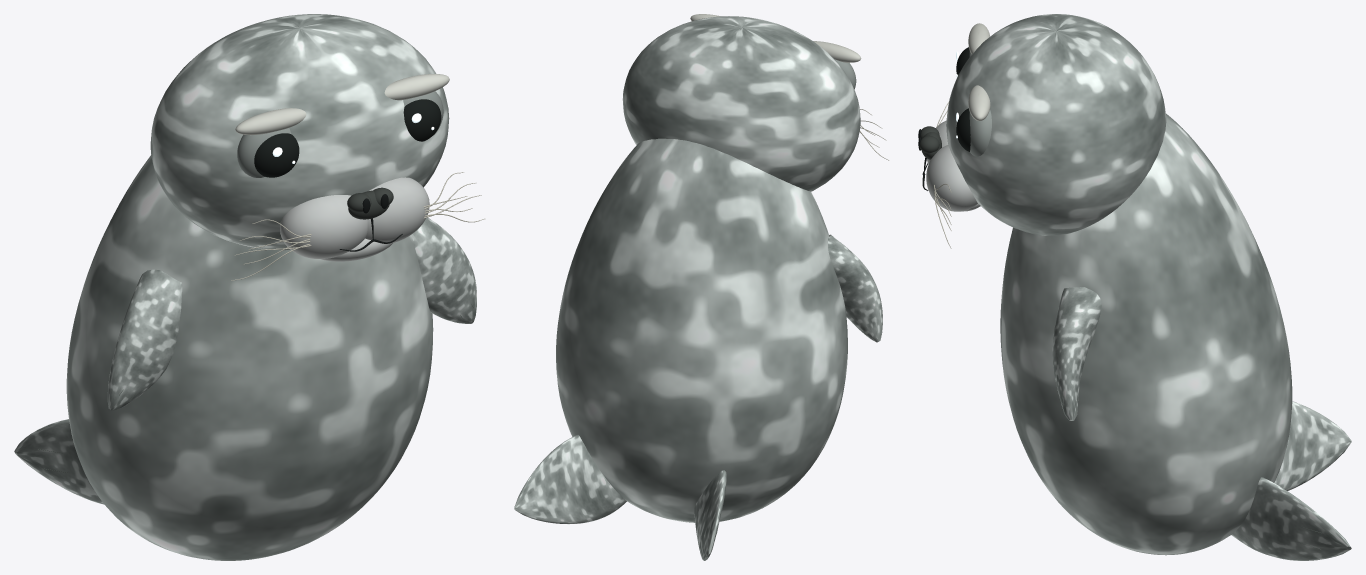
File: seal-weddell-elder.glb
The picture shows the model from 3 angles, left to right: view 1: azimuth 30°, elevation 25°; view 2: azimuth 150°, elevation 25°; view 3: azimuth 270°, elevation 25°; orthographic projection. The views are drawn at different scales.
Visible parts, largest first — view 1: Plump seamless body, Velvet head and muzzle, Webbed flipper (×3), Glossy eye (×2), Twelve tapered whiskers, Soft triangular nose, Soft chin; view 2: Plump seamless body, Velvet head and muzzle, Webbed flipper (×3); view 3: Plump seamless body, Velvet head and muzzle, Webbed flipper (×3), Soft triangular nose.
Boxes of the visible parts, x1,y1,x2,y2 form: Plump seamless body: (66,155,433,560); Velvet head and muzzle: (150,14,449,258); Webbed flipper (×3): (14,217,476,504); Glossy eye (×2): (254,99,441,177); Twelve tapered whiskers: (231,172,485,280); Soft triangular nose: (347,187,393,219); Soft chin: (320,238,392,261); Plump seamless body: (556,138,847,522); Velvet head and muzzle: (622,14,861,191); Webbed flipper (×3): (514,234,882,560); Plump seamless body: (1000,113,1292,555); Velvet head and muzzle: (926,14,1166,235); Webbed flipper (×3): (1052,287,1351,560); Soft triangular nose: (919,126,941,159).
Size of the model in its own units: 1.88 by 2.75 by 2.12.
Materials: 8 (1 with a texture image).
